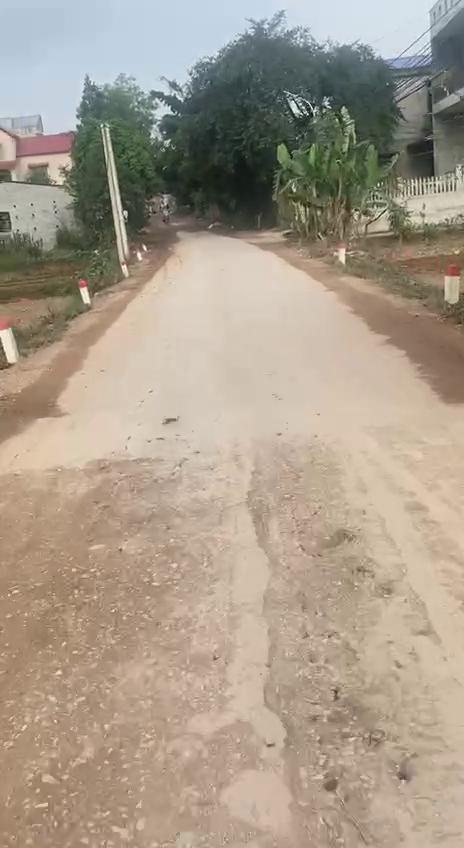pothole: (236, 454, 462, 848)
